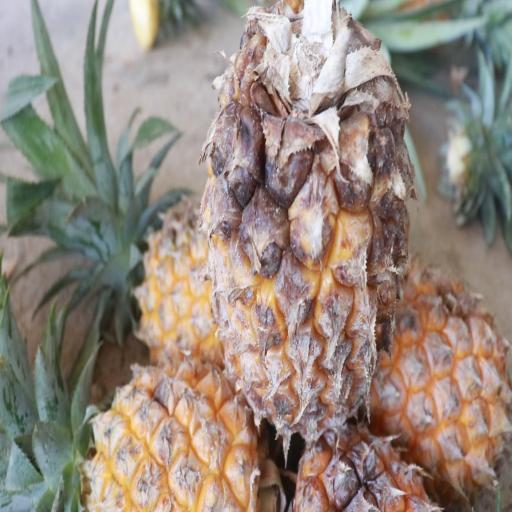Pineapple - v8 v1: (200, 5, 414, 445), (361, 254, 512, 512), (54, 333, 270, 512)
